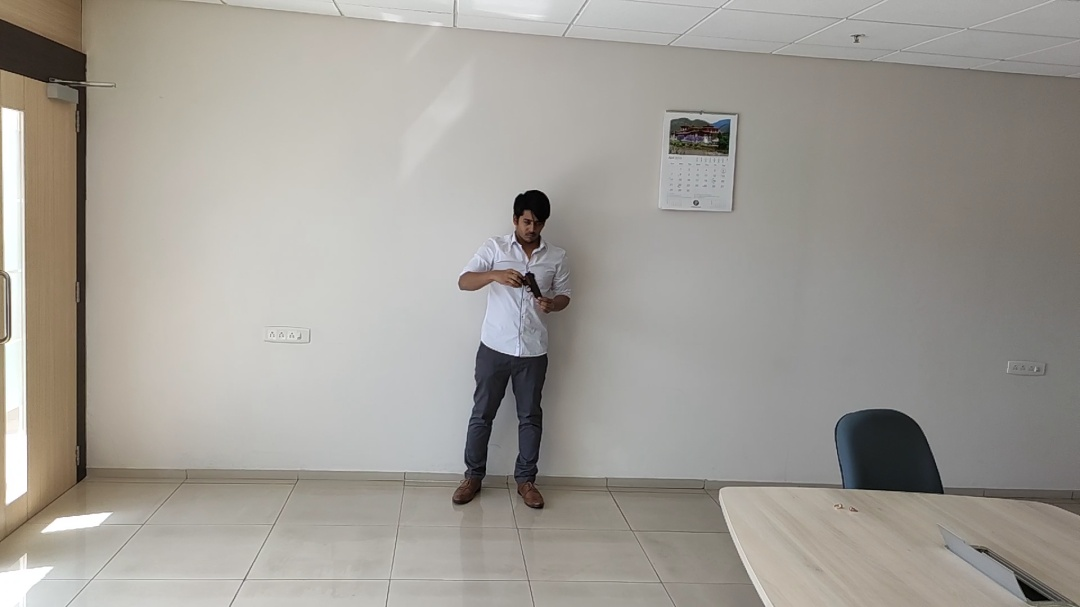gun: (524, 271, 542, 298)
